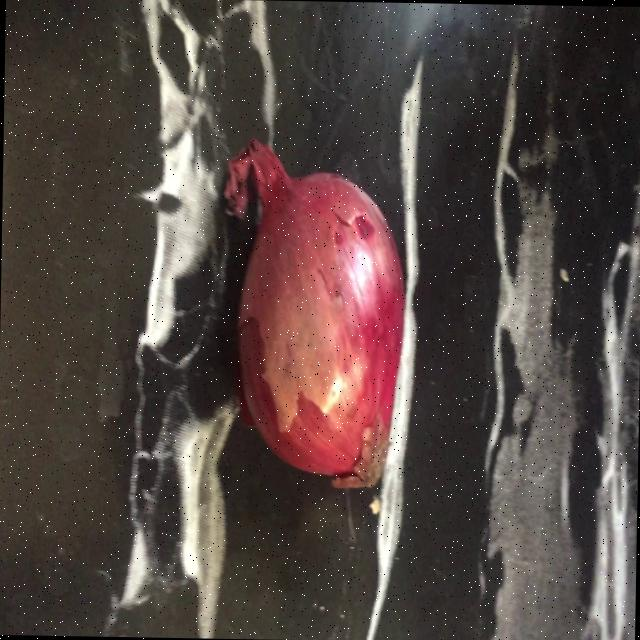Onion: (224, 139, 404, 486)
